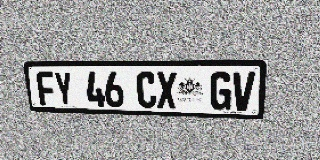4: (85, 72, 106, 107)
6: (103, 72, 124, 107)
C: (136, 72, 156, 108)
F: (36, 72, 57, 106)
G: (210, 72, 232, 110)
V: (231, 72, 255, 111)
X: (156, 72, 177, 109)
Y: (53, 72, 74, 106)
